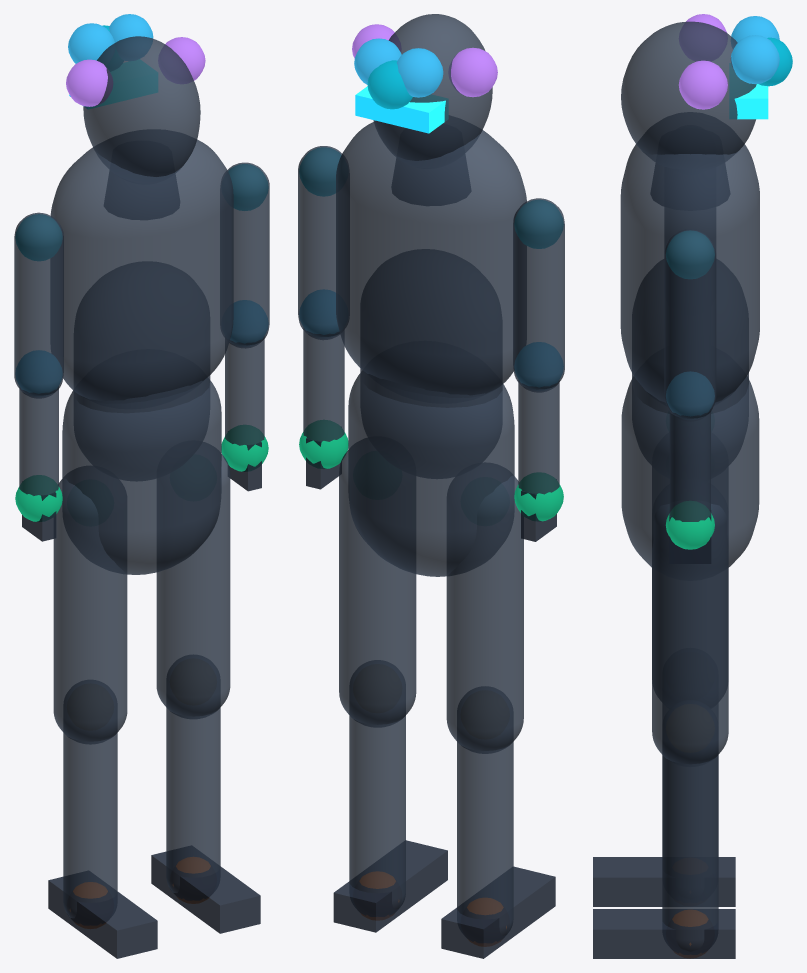
Rendered from pedestrian_smpl.glb.
3 views of the same model, side by side, from view 1: azimuth 30°, elevation 25°; view 2: azimuth 150°, elevation 25°; view 3: azimuth 270°, elevation 25° (orthographic). The views are drawn at different scales.
Parts seen in each view (by area): view 1: Chest_Mesh, Pelvis_Mesh, ThighL_Mesh, ThighR_Mesh, Head_Mesh, CalfL_Mesh, CalfR_Mesh, UpperArmL_Mesh, UpperArmR_Mesh, FootL_Mesh, FootR_Mesh, ForeArmL_Mesh (+16 smaller); view 2: Chest_Mesh, Pelvis_Mesh, ThighL_Mesh, ThighR_Mesh, CalfL_Mesh, CalfR_Mesh, UpperArmL_Mesh, Head_Mesh, UpperArmR_Mesh, FootL_Mesh, FootR_Mesh, ForeArmL_Mesh (+17 smaller); view 3: Chest_Mesh, ThighR_Mesh, Pelvis_Mesh, Head_Mesh, CalfR_Mesh, UpperArmR_Mesh, FootR_Mesh, FootL_Mesh, ForeArmR_Mesh, Neck_Mesh, Kpt_4_EarR, Kpt_2_EyeR (+10 smaller).
Boxes of the visible parts, x1,y1,x2,y2 form: Chest_Mesh: (50, 139, 233, 401); Pelvis_Mesh: (62, 380, 221, 574); ThighL_Mesh: (53, 478, 127, 741); ThighR_Mesh: (156, 454, 230, 716); Head_Mesh: (83, 36, 200, 177); CalfL_Mesh: (63, 732, 117, 918); CalfR_Mesh: (166, 707, 220, 893); UpperArmL_Mesh: (14, 212, 63, 395); UpperArmR_Mesh: (227, 162, 269, 345); FootL_Mesh: (48, 871, 157, 958); FootR_Mesh: (151, 846, 260, 933); ForeArmL_Mesh: (19, 389, 58, 495); Chest_Mesh: (336, 122, 526, 395); Pelvis_Mesh: (348, 373, 514, 576); ThighL_Mesh: (446, 475, 523, 750); ThighR_Mesh: (339, 450, 416, 724); CalfL_Mesh: (457, 741, 513, 935); CalfR_Mesh: (349, 715, 405, 909); UpperArmL_Mesh: (513, 198, 564, 389); Head_Mesh: (373, 14, 492, 160); UpperArmR_Mesh: (298, 146, 342, 336); FootL_Mesh: (441, 866, 555, 958); FootR_Mesh: (333, 840, 447, 932); ForeArmL_Mesh: (518, 382, 559, 494); Chest_Mesh: (620, 144, 759, 402); ThighR_Mesh: (652, 503, 728, 764); Pelvis_Mesh: (621, 379, 759, 567); Head_Mesh: (621, 21, 756, 154); CalfR_Mesh: (662, 754, 718, 951); UpperArmR_Mesh: (664, 229, 716, 418); FootR_Mesh: (593, 909, 735, 958); FootL_Mesh: (593, 857, 735, 906); ForeArmR_Mesh: (669, 411, 710, 521); Neck_Mesh: (651, 163, 729, 210); Kpt_4_EarR: (678, 60, 727, 109); Kpt_2_EyeR: (731, 35, 779, 84).
Bounding box in the file's own units: 0.46 × 1.54 × 0.308.
